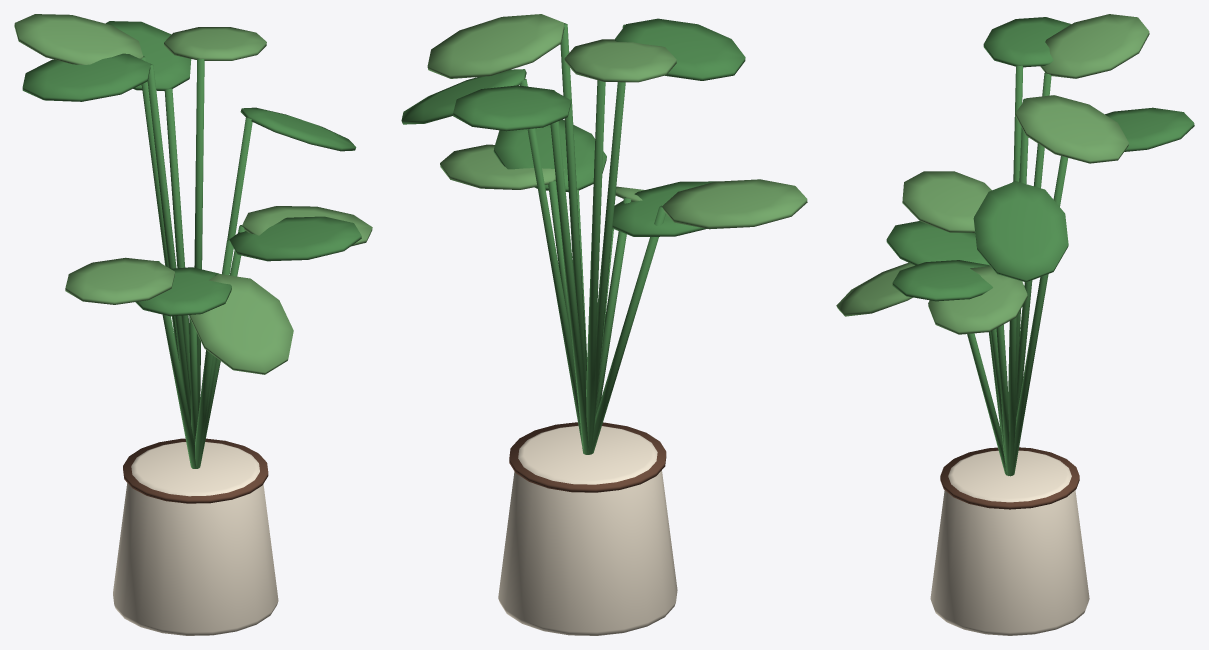
The model's file is senior_monstera.glb.
3 renders of one model, left to right at view 1: azimuth 30°, elevation 25°; view 2: azimuth 150°, elevation 25°; view 3: azimuth 270°, elevation 25°, orthographic. The views are drawn at different scales.
Visible parts, largest first — view 1: senior_monstera__LeafDark, senior_monstera__Pot, senior_monstera__Leaf, senior_monstera__Soil; view 2: senior_monstera__LeafDark, senior_monstera__Pot, senior_monstera__Leaf, senior_monstera__Soil; view 3: senior_monstera__LeafDark, senior_monstera__Pot, senior_monstera__Leaf, senior_monstera__Soil.
Boxes of the visible parts, <box> form: senior_monstera__LeafDark: <box>22,21,361,468</box>; senior_monstera__Pot: <box>113,442,278,635</box>; senior_monstera__Leaf: <box>14,14,372,374</box>; senior_monstera__Soil: <box>123,438,268,503</box>; senior_monstera__LeafDark: <box>401,18,745,454</box>; senior_monstera__Pot: <box>498,425,677,635</box>; senior_monstera__Leaf: <box>427,14,807,229</box>; senior_monstera__Soil: <box>509,422,666,492</box>; senior_monstera__LeafDark: <box>886,17,1194,476</box>; senior_monstera__Pot: <box>930,450,1089,635</box>; senior_monstera__Leaf: <box>836,14,1149,334</box>; senior_monstera__Soil: <box>940,447,1079,509</box>.
Size of the model in its own units: 0.8376 by 1.39 by 0.8476.
